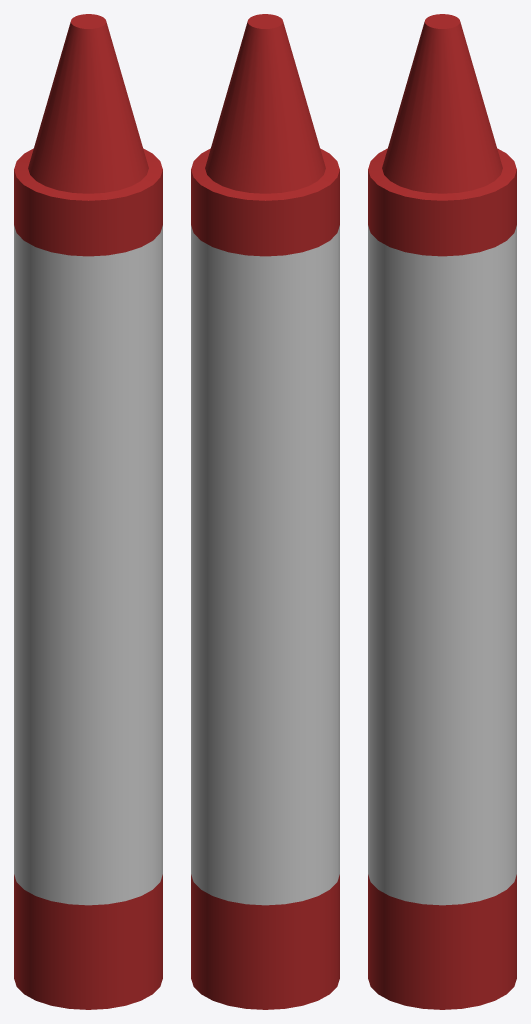
File: Crayon.fbx
The picture shows the model from 3 angles, left to right: view 1: azimuth 30°, elevation 25°; view 2: azimuth 150°, elevation 25°; view 3: azimuth 270°, elevation 25°; orthographic projection.
Visible parts, largest first — view 1: Crayon; view 2: Crayon; view 3: Crayon.
Boxes of the visible parts, x1,y1,x2,y2 form: Crayon: (14,14,162,1009); Crayon: (191,14,339,1009); Crayon: (368,14,516,1009).
Bounding box in the file's own units: 39.63 × 281 × 39.63.
